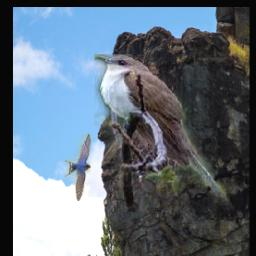Cuckoo: (95, 55, 235, 213)
Swallow: (65, 135, 91, 202)
